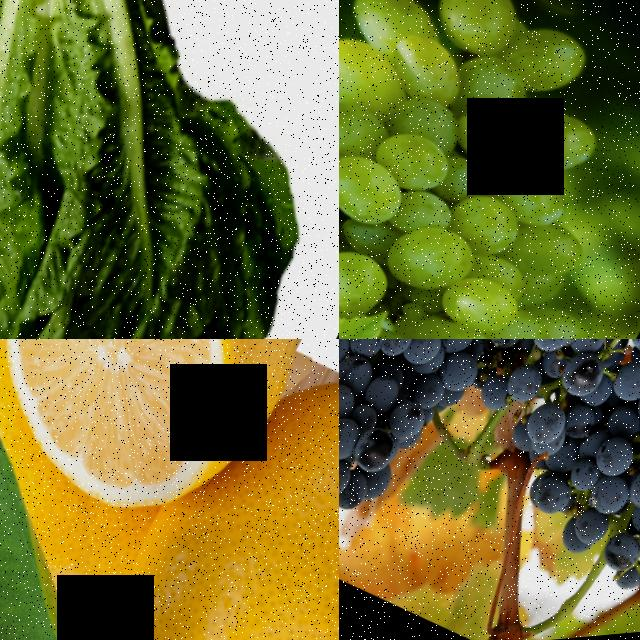grapes: (339, 0, 640, 339), (339, 339, 517, 553), (516, 339, 640, 633)
lemon: (103, 339, 339, 640), (0, 339, 339, 531)
lettuce: (0, 0, 339, 339)
